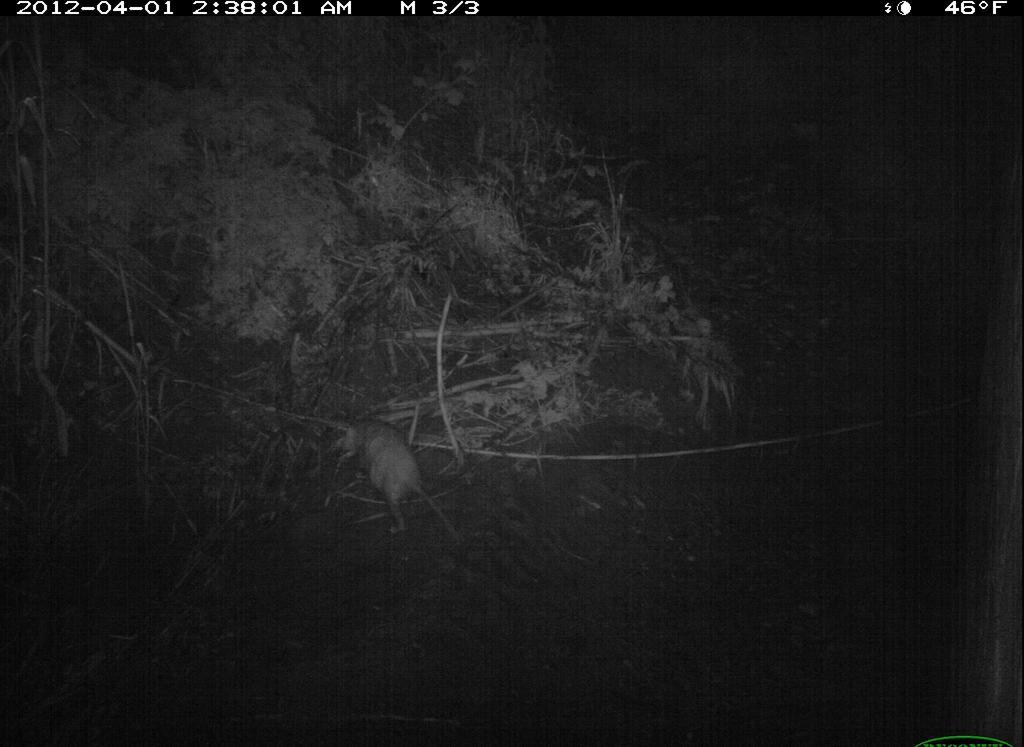opossum: (341, 417, 462, 545)
